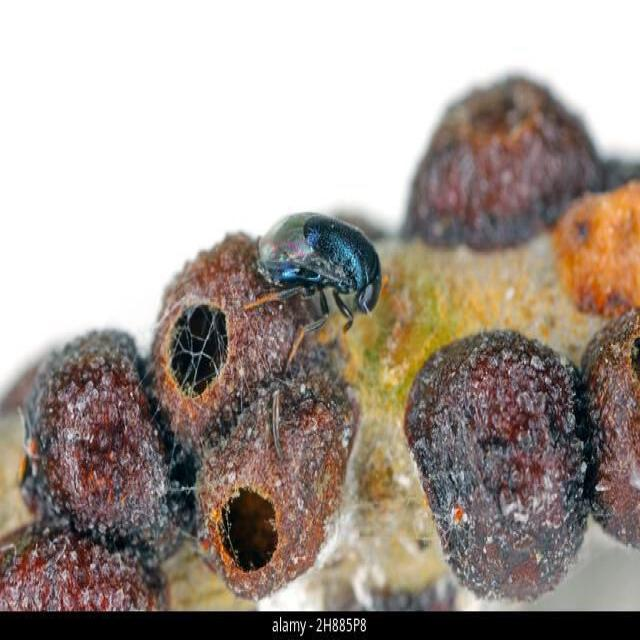Black Scale: (0, 329, 193, 610), (404, 331, 591, 597), (402, 76, 639, 249), (199, 367, 358, 596), (150, 233, 284, 470), (581, 308, 639, 547)
